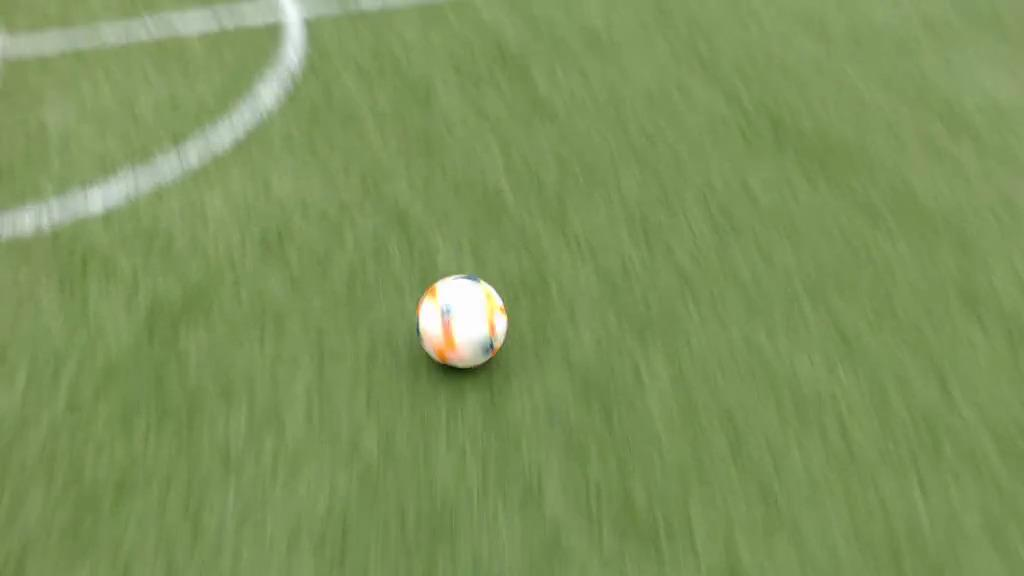ball: (416, 273, 508, 368)
